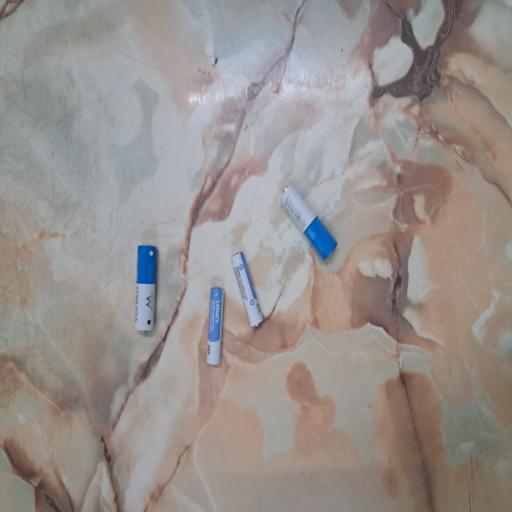battery: (188, 371, 248, 453), (138, 305, 197, 353), (133, 177, 202, 211), (110, 273, 170, 301)
